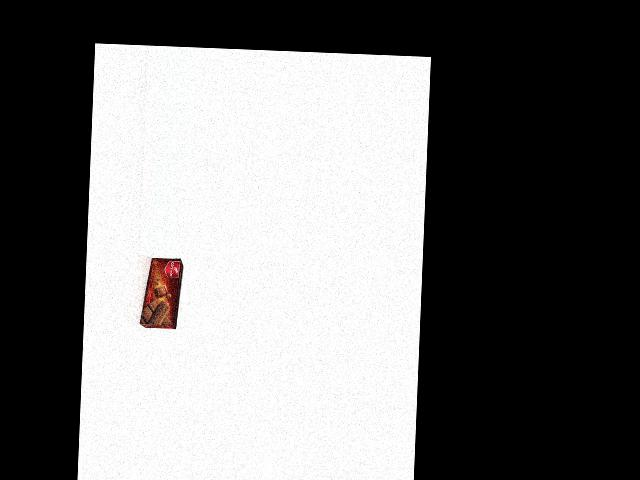chocolate: (138, 256, 184, 328)
